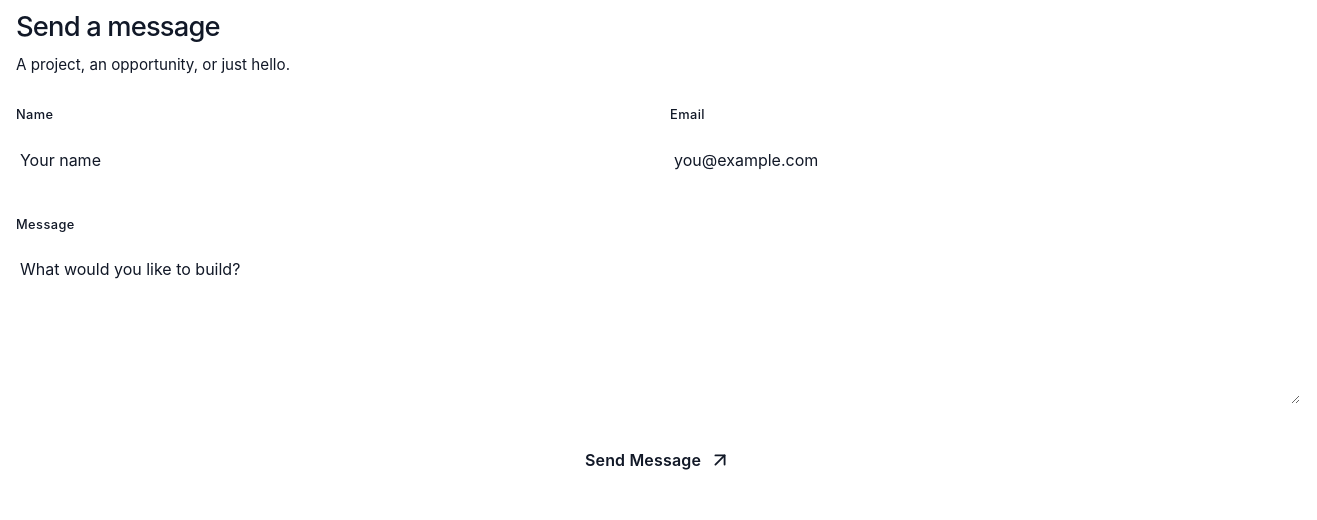
it: ContactForm › reports an address only the browser rejects, and does not send it
Type "Ada" into the field labelled "Name" at (331, 160), box [16, 134, 646, 186]
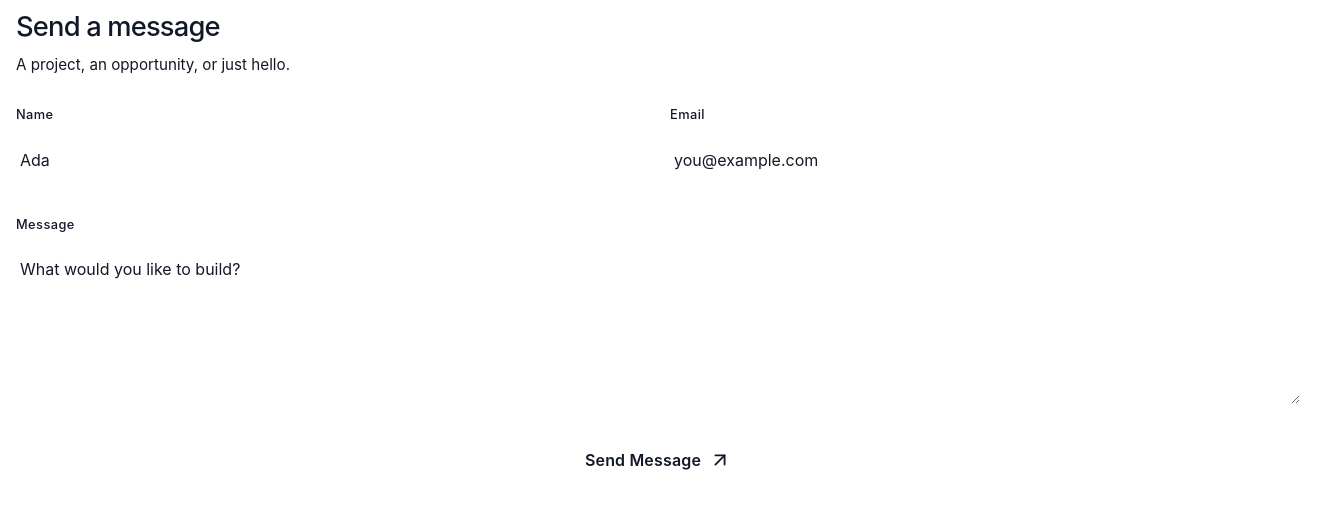
Type "ada@exa_mple.com" into the field labelled "Email" at (985, 160), box [670, 134, 1300, 186]
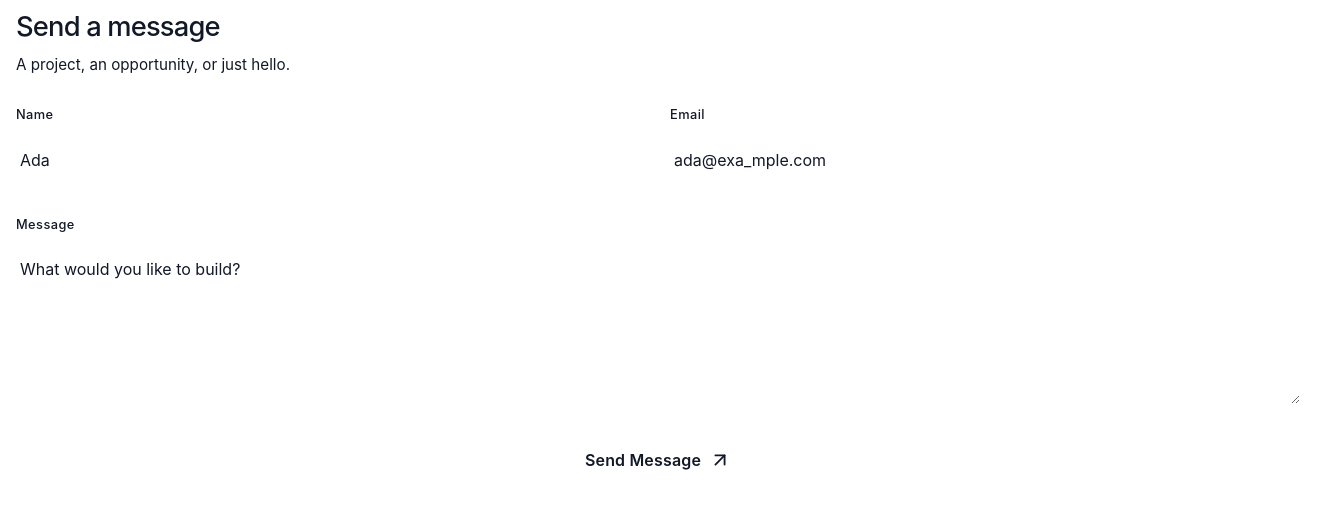
Type "Hello" into the text box labelled "Message" at (658, 324), box [16, 244, 1300, 404]
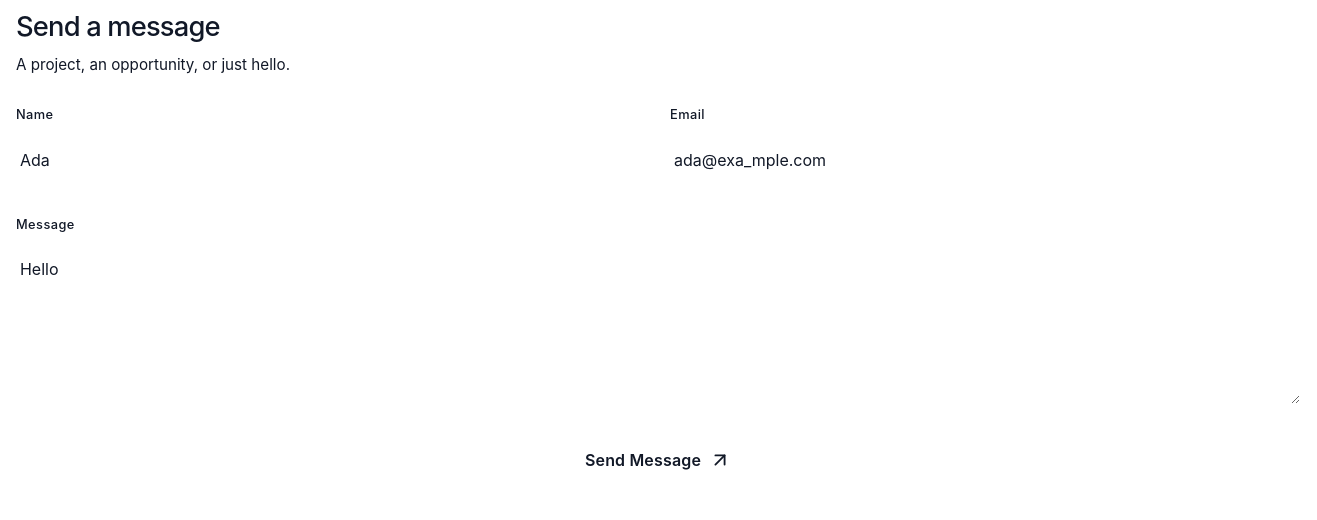
Click the button "Send Message" at (658, 460), box [16, 432, 1300, 488]
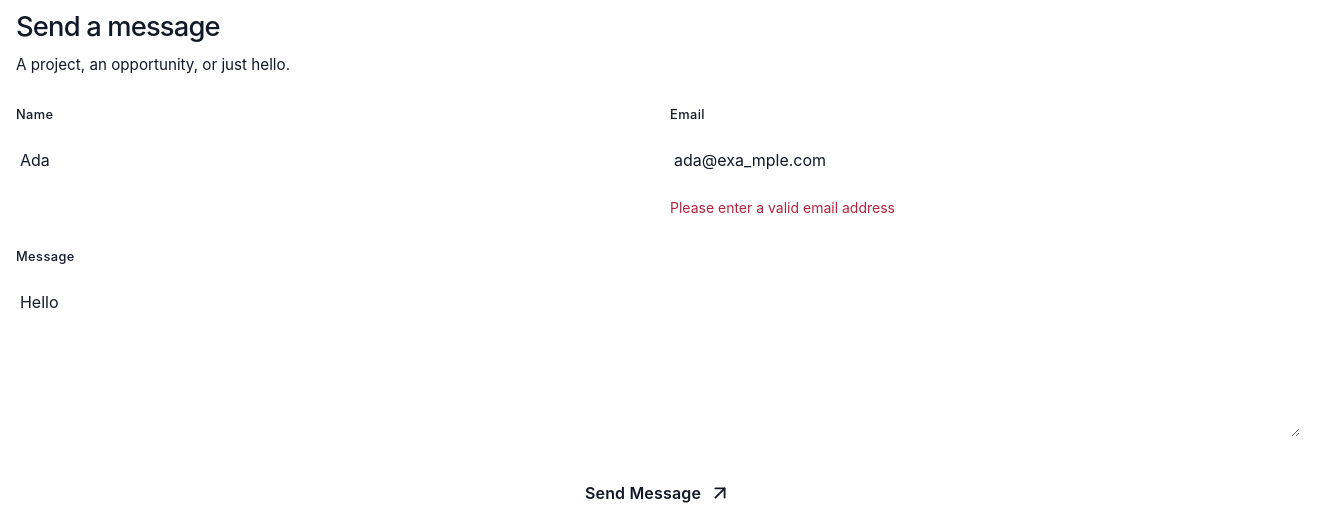
Now the number of messages is 1, box [670, 199, 895, 216]
